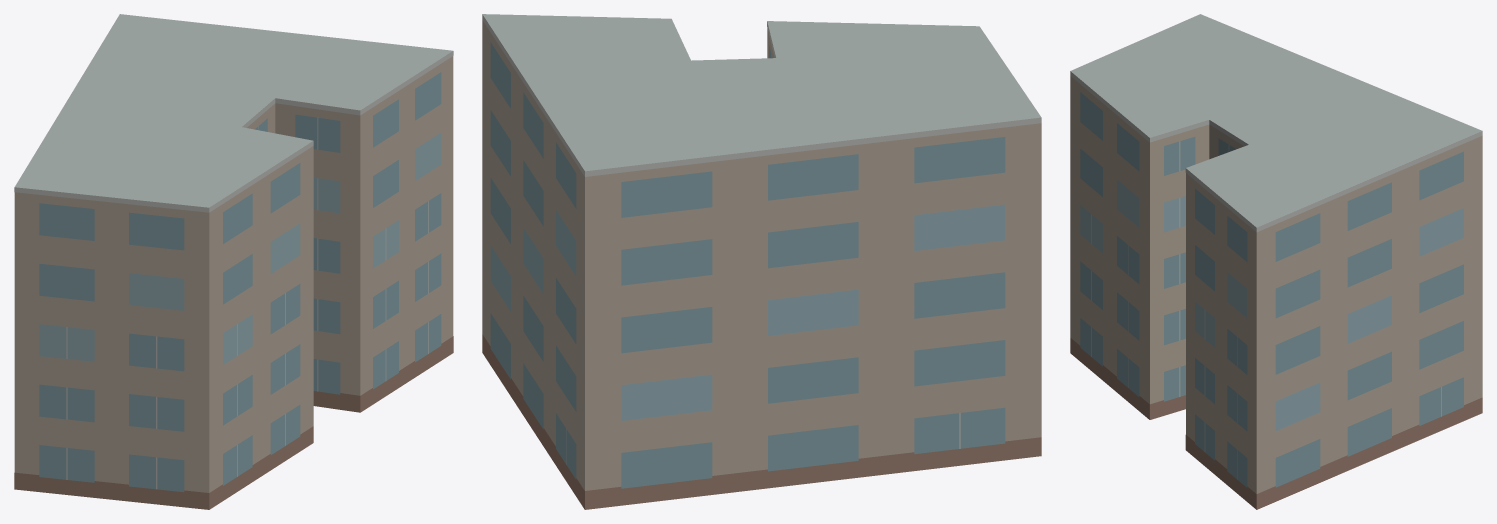
Rendered from survey-upis-32764311.glb.
3 views of the same model, side by side, from view 1: azimuth 30°, elevation 25°; view 2: azimuth 150°, elevation 25°; view 3: azimuth 270°, elevation 25° (orthographic). The views are drawn at different scales.
Visible parts, largest first — view 1: survey-upis-32764311.tmp; view 2: survey-upis-32764311.tmp; view 3: survey-upis-32764311.tmp.
Part boxes in pixels (left/top/right/bottom): survey-upis-32764311.tmp: left=14, top=14, right=453, bottom=509; survey-upis-32764311.tmp: left=482, top=14, right=1041, bottom=509; survey-upis-32764311.tmp: left=1070, top=14, right=1482, bottom=509.
Bounding box in the file's own units: 23.97 × 14.75 × 19.54.
